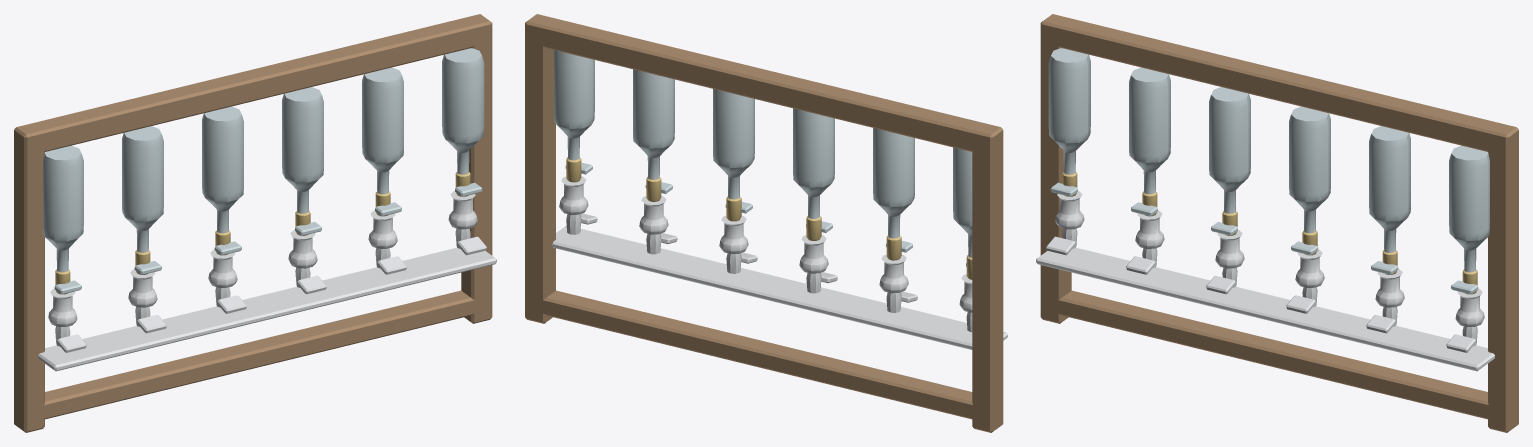
The model's file is bar-pub-and-brewery-taproom-optic-rail-343deff5__18368.glb.
3 views of the same model, side by side, from view 1: azimuth 30°, elevation 25°; view 2: azimuth 150°, elevation 25°; view 3: azimuth 330°, elevation 25° (orthographic).
Parts seen in each view (by area): view 1: optic-rail; view 2: optic-rail; view 3: optic-rail.
Part boxes in pixels (x1,y1,x2,y2): optic-rail: (14,14,496,432); optic-rail: (525,14,1007,432); optic-rail: (1036,14,1518,432).
Bounding box in the file's own units: 1.1 × 0.67 × 0.1215.
